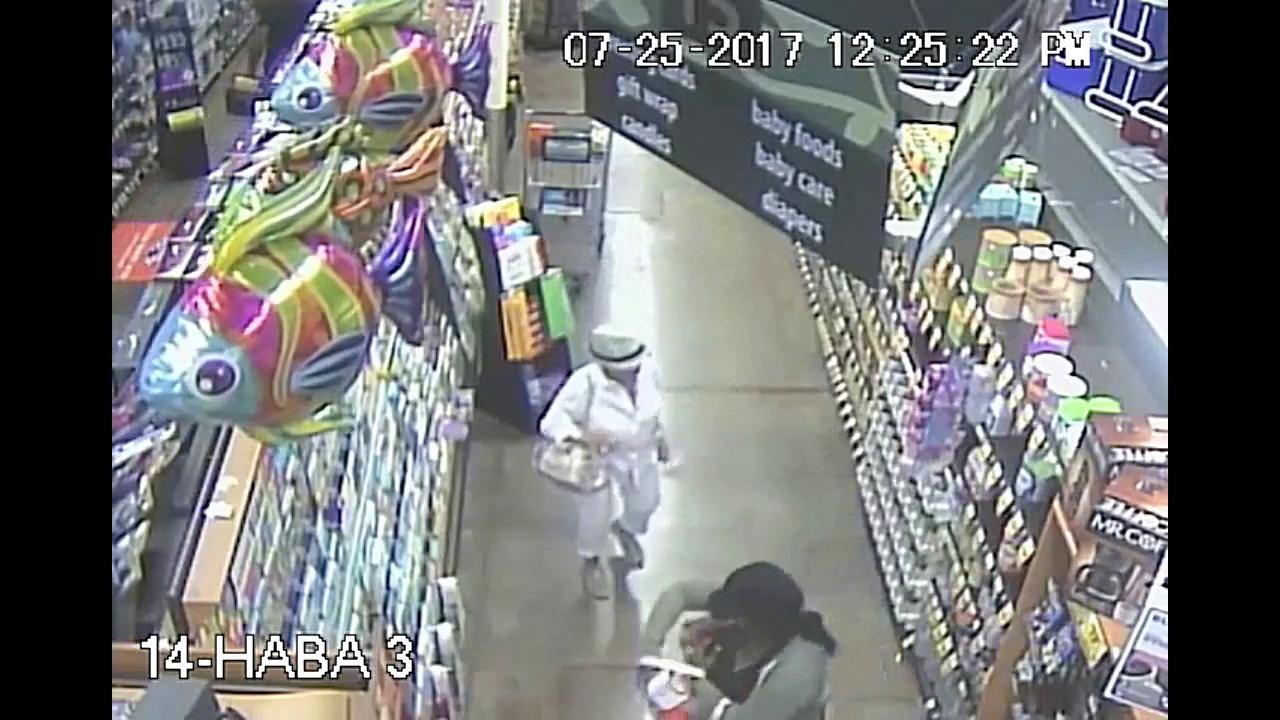3: (490, 303, 707, 538)
4: (621, 551, 869, 720)
persone: (532, 423, 605, 502)
